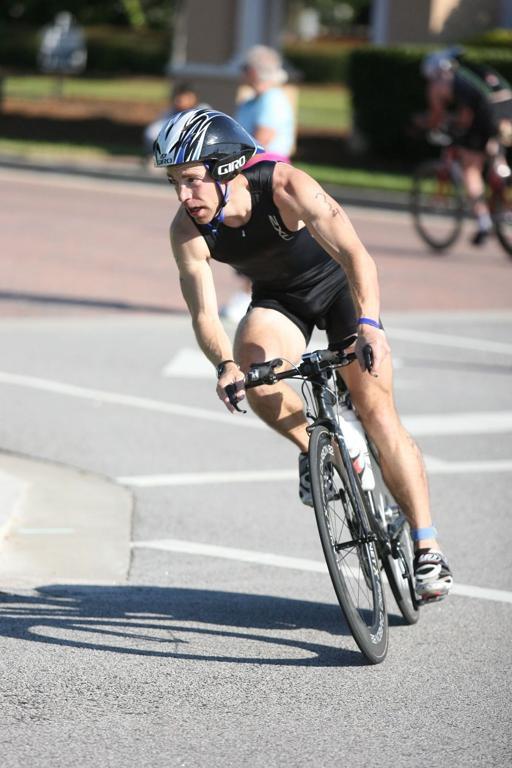non-vehicle: (225, 343, 445, 662), (410, 125, 511, 254)
